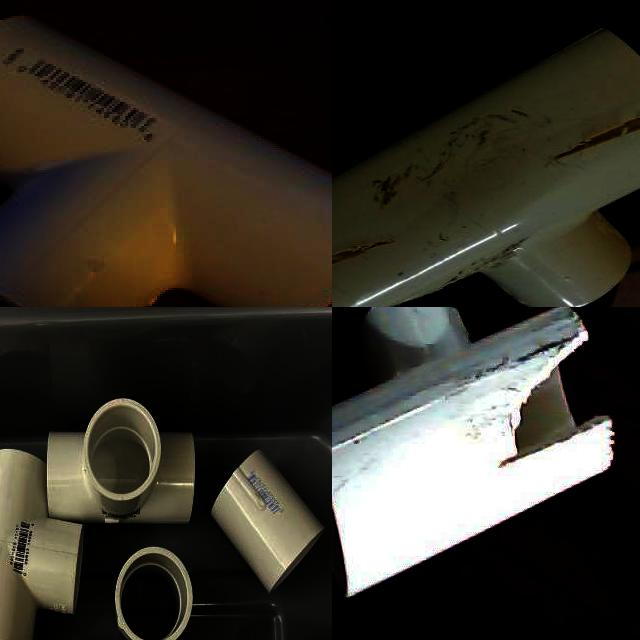Defective: (498, 328, 614, 463), (555, 116, 640, 162), (332, 244, 393, 287)
T Joint: (0, 14, 332, 307), (332, 28, 640, 307), (332, 307, 616, 601), (47, 399, 206, 524), (0, 448, 85, 640)
